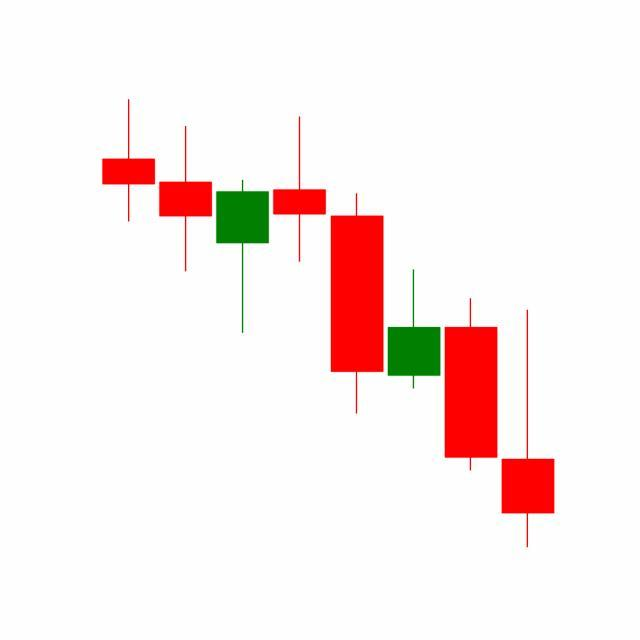Hikkake Pattern: (214, 113, 501, 476)
